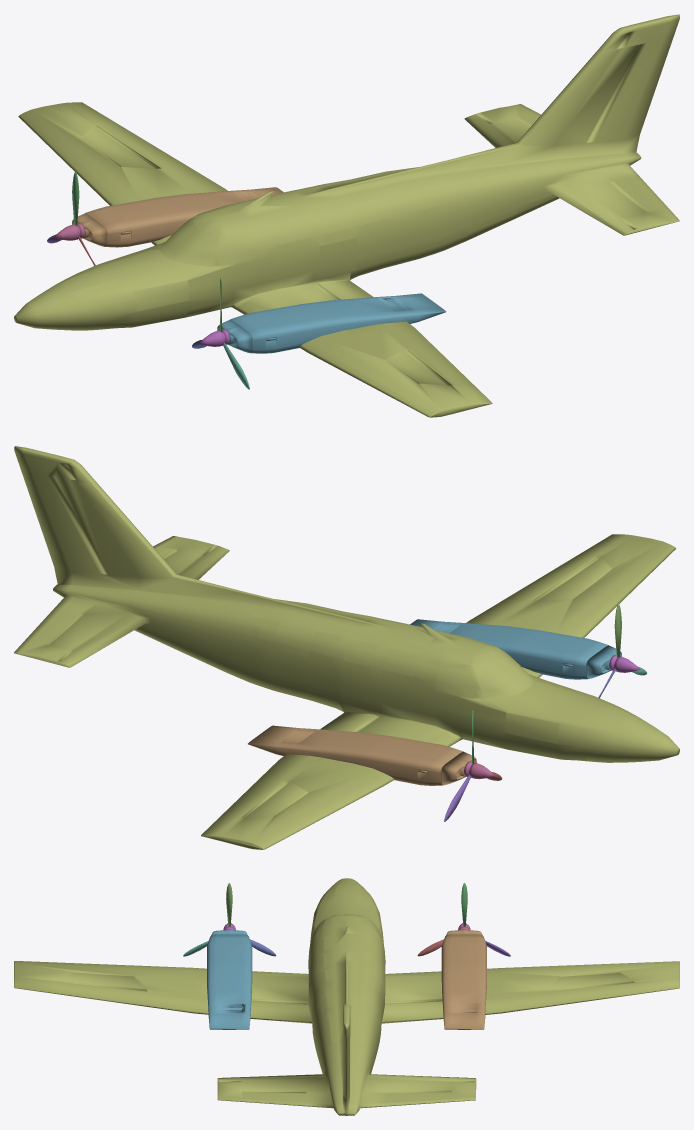
Rendered from cessna7KN.obj.
3 views of the same model, one above another, from view 1: azimuth 30°, elevation 25°; view 2: azimuth 150°, elevation 25°; view 3: azimuth 270°, elevation 25° (orthographic). The views are drawn at different scales.
Size of the model in its own units: 41.2 by 10.24 by 44.3.
